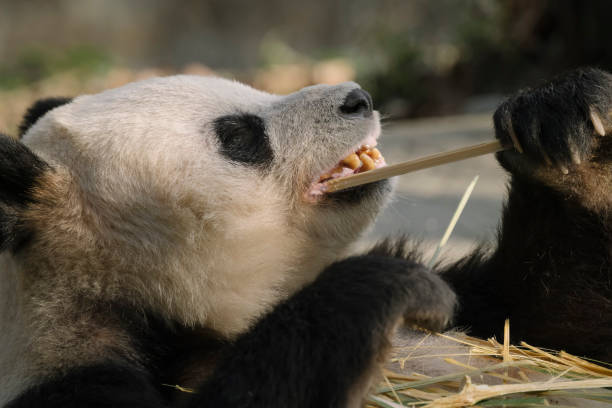panda: (14, 61, 426, 346)
